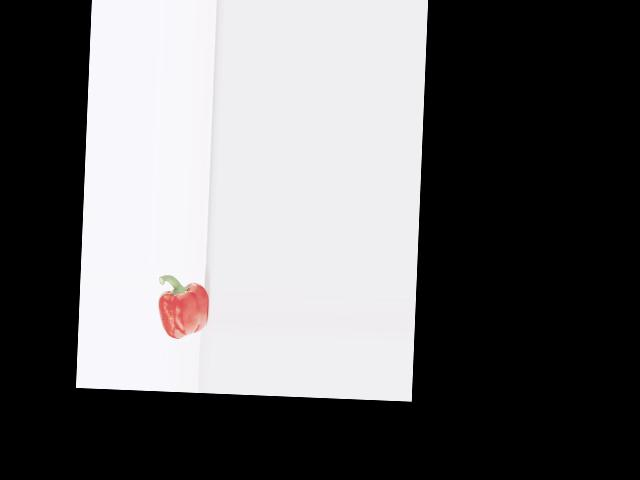bell_pepper: (154, 268, 212, 343)
